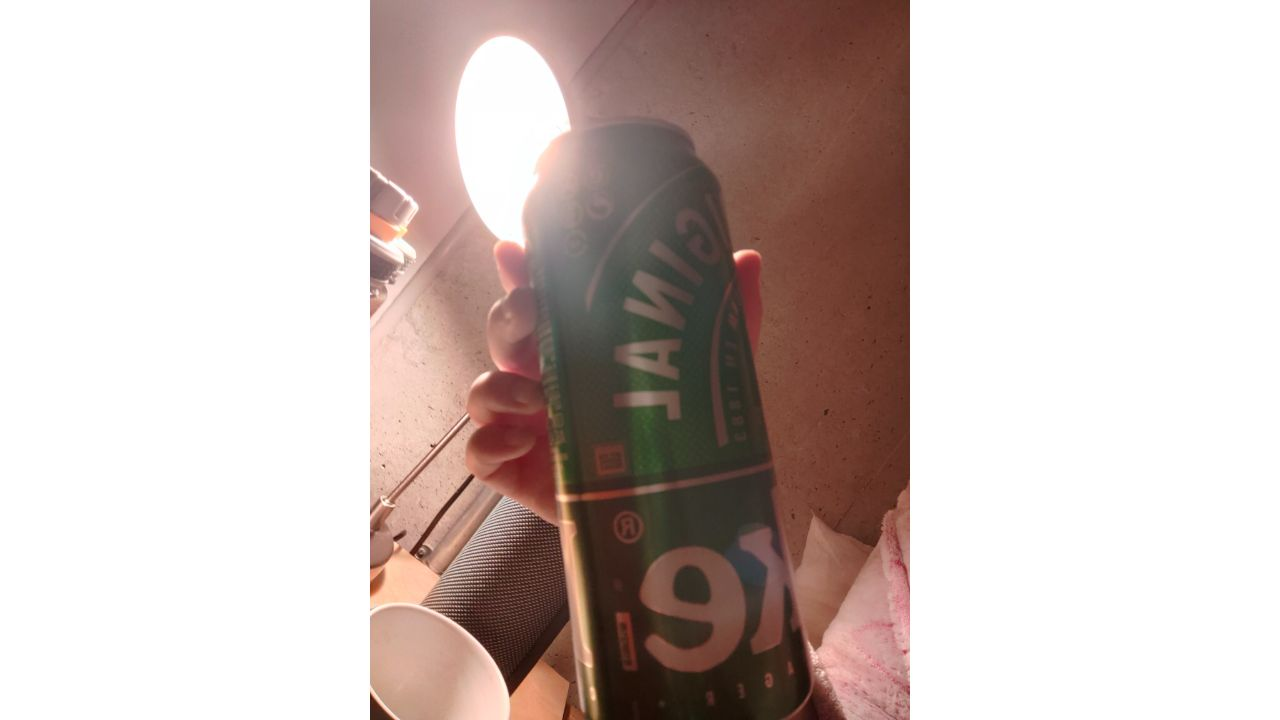Can: (525, 115, 820, 720)
